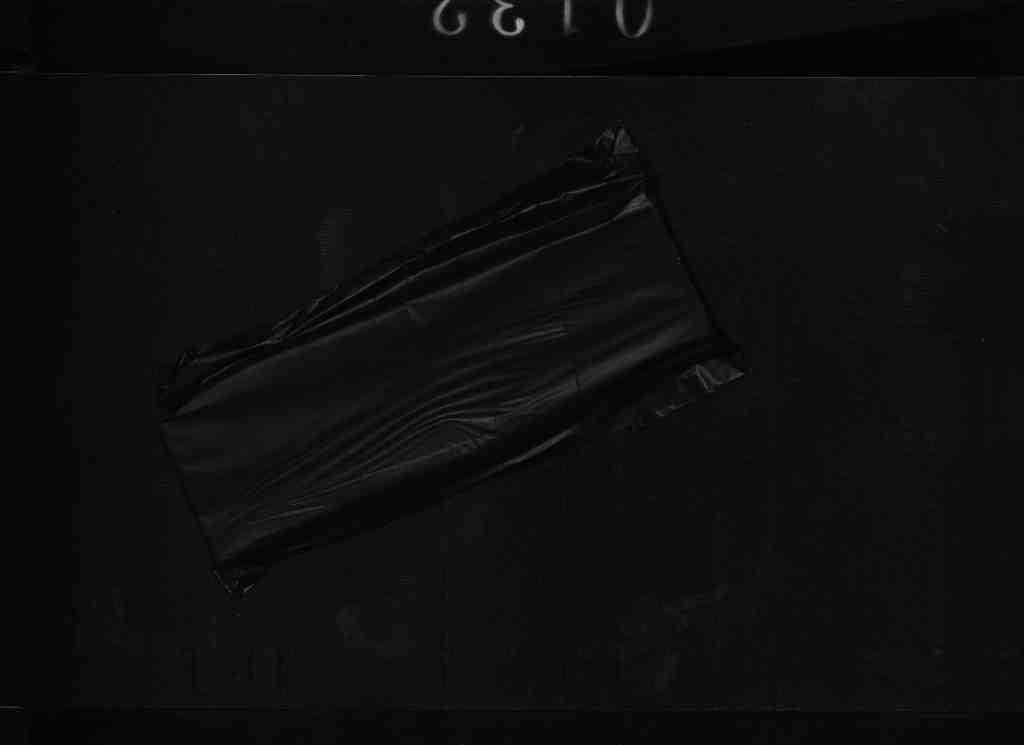box: (141, 128, 760, 599)
